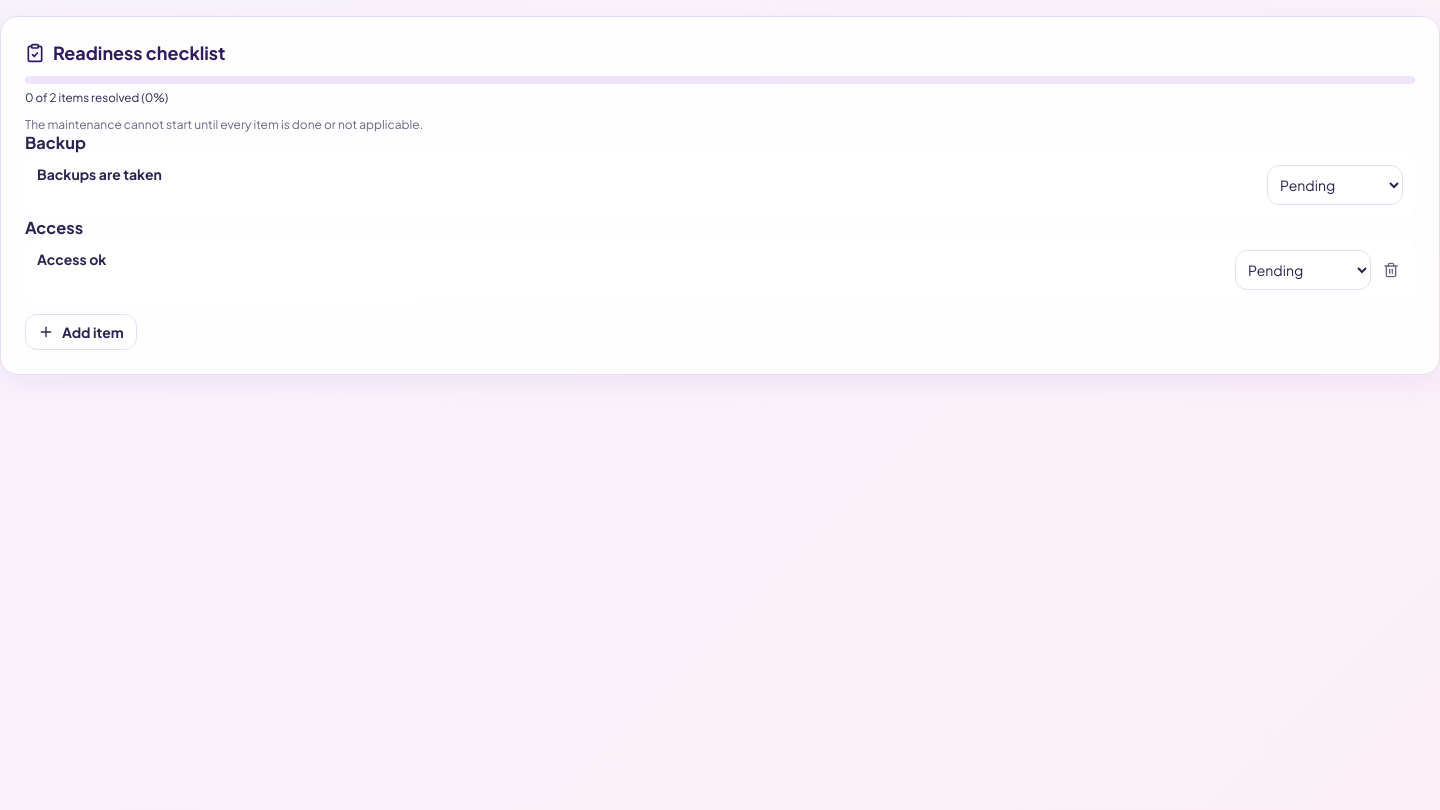
ReadinessTab › not applicable needs a reason
This screenshot has width=1440, height=810.
Later steps or results of the test are not shown.
Select "Not applicable" in the dropdown named "State of Backups are taken": (1335, 185) [1267, 165, 1403, 205]
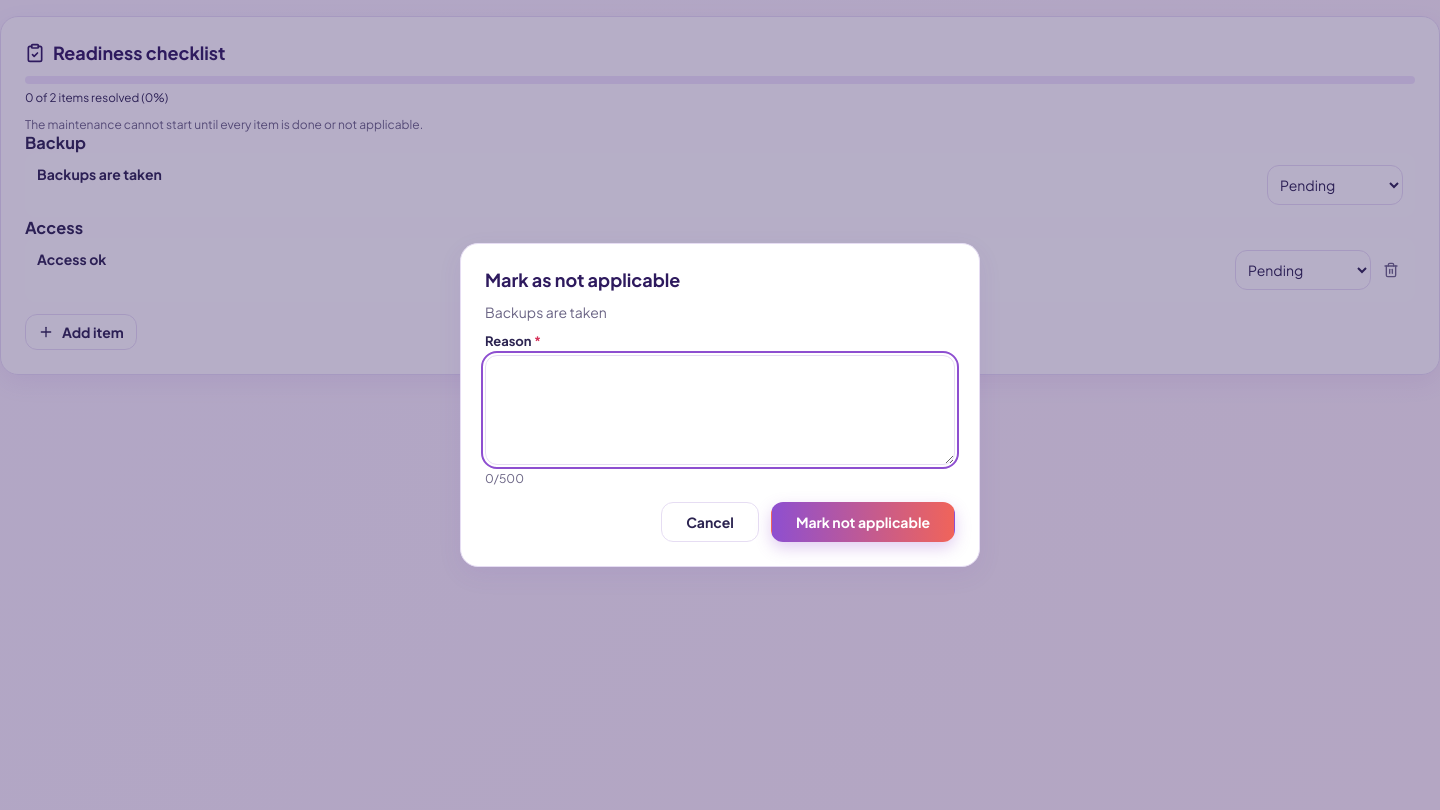
Click the submit button: (863, 522) [771, 502, 955, 542]
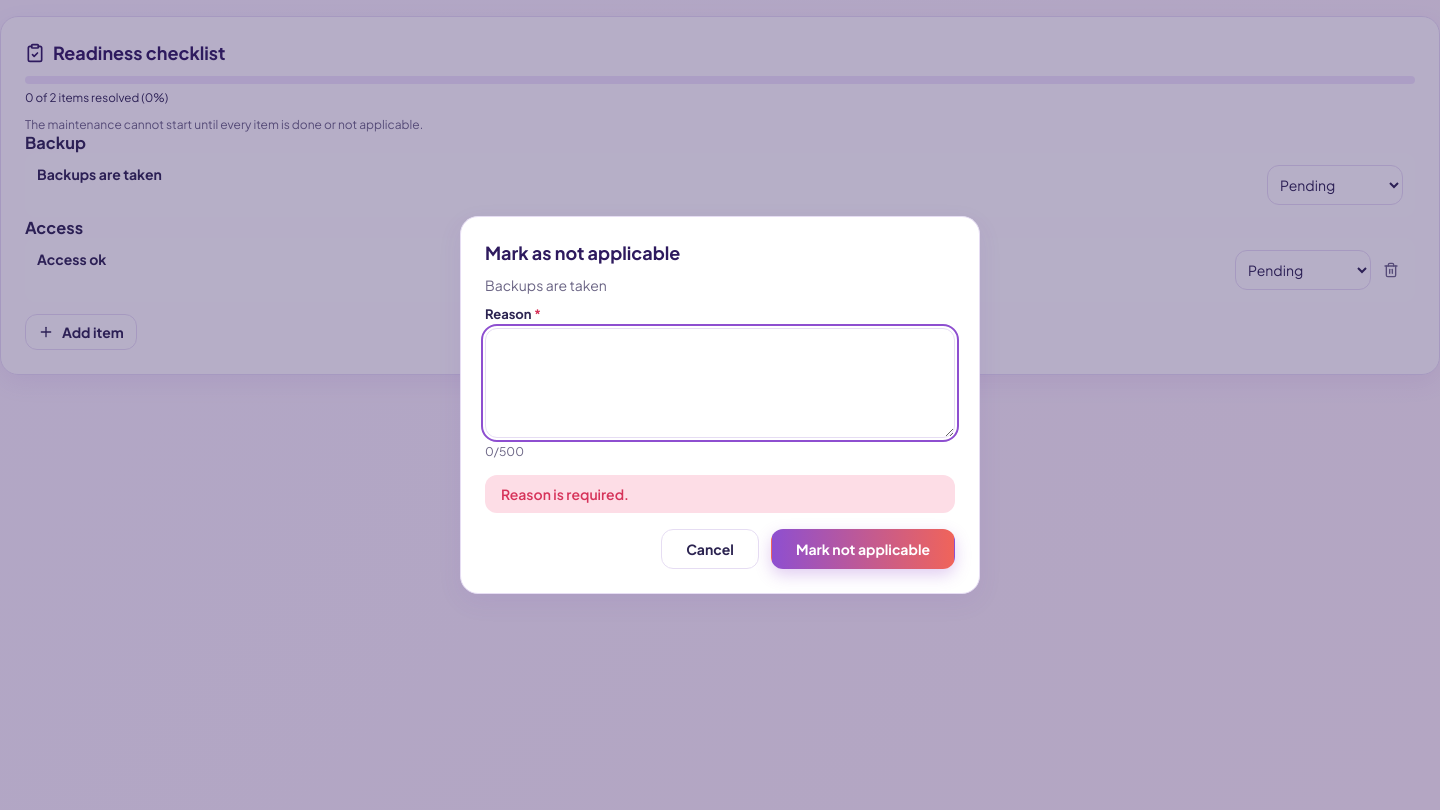
Result: the message shows "Reason is required" at [501, 485, 629, 503]
